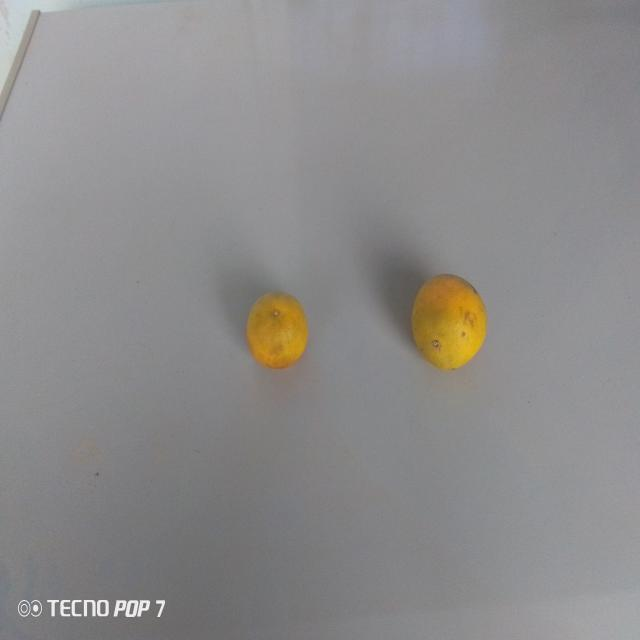Ripe orange: (402, 266, 493, 380), (243, 284, 313, 375)
